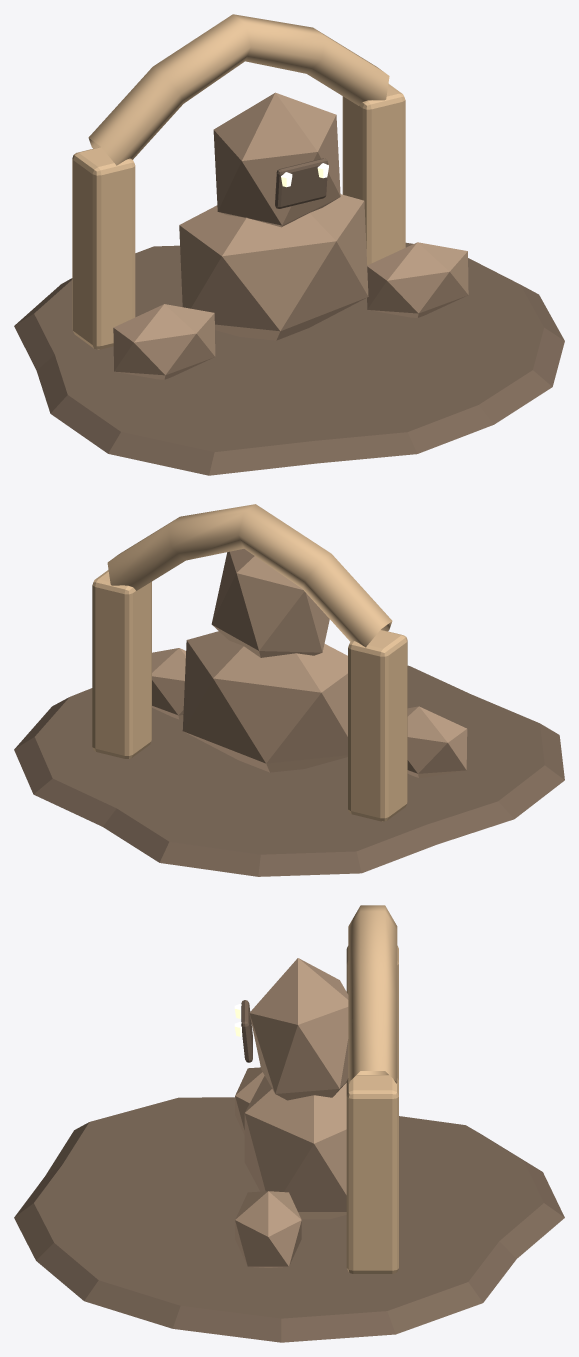
Rendered from whispering-desert-lod2.glb.
3 views of the same model, one above another, from view 1: azimuth 30°, elevation 25°; view 2: azimuth 150°, elevation 25°; view 3: azimuth 270°, elevation 25° (orthographic). The views are drawn at different scales.
Parts seen in each view (by area): view 1: STONE_TERRAIN_SOCKET, STONE_TITAN_TORSO, STONE_TITAN_GATE_ARCH, STONE_GATE_PILLAR_-1, STONE_TITAN_HEAD, STONE_GATE_PILLAR_1, STONE_BURIED_HAND_-1, STONE_BURIED_HAND_1, DARK_TITAN_FACE; view 2: STONE_TERRAIN_SOCKET, STONE_TITAN_TORSO, STONE_TITAN_GATE_ARCH, STONE_GATE_PILLAR_-1, STONE_GATE_PILLAR_1, STONE_TITAN_HEAD, STONE_BURIED_HAND_-1, STONE_BURIED_HAND_1; view 3: STONE_TERRAIN_SOCKET, STONE_TITAN_TORSO, STONE_TITAN_HEAD, STONE_GATE_PILLAR_1, STONE_TITAN_GATE_ARCH, STONE_BURIED_HAND_1, STONE_BURIED_HAND_-1, DARK_TITAN_FACE.
Part boxes in pixels (bbox=[...]): STONE_TERRAIN_SOCKET: bbox=[14, 242, 564, 475]; STONE_TITAN_TORSO: bbox=[179, 194, 368, 340]; STONE_TITAN_GATE_ARCH: bbox=[88, 14, 389, 165]; STONE_GATE_PILLAR_-1: bbox=[72, 147, 135, 349]; STONE_TITAN_HEAD: bbox=[213, 92, 340, 227]; STONE_GATE_PILLAR_1: bbox=[342, 83, 405, 265]; STONE_BURIED_HAND_-1: bbox=[113, 304, 215, 379]; STONE_BURIED_HAND_1: bbox=[367, 242, 468, 317]; DARK_TITAN_FACE: bbox=[275, 158, 328, 208]; STONE_TERRAIN_SOCKET: bbox=[14, 665, 564, 876]; STONE_TITAN_TORSO: bbox=[182, 631, 347, 772]; STONE_TITAN_GATE_ARCH: bbox=[107, 504, 392, 647]; STONE_GATE_PILLAR_-1: bbox=[348, 630, 407, 821]; STONE_GATE_PILLAR_1: bbox=[92, 570, 151, 758]; STONE_TITAN_HEAD: bbox=[211, 549, 329, 657]; STONE_BURIED_HAND_-1: bbox=[407, 706, 467, 777]; STONE_BURIED_HAND_1: bbox=[152, 648, 185, 719]; STONE_TERRAIN_SOCKET: bbox=[14, 1097, 564, 1342]; STONE_TITAN_TORSO: bbox=[244, 1076, 346, 1219]; STONE_TITAN_HEAD: bbox=[249, 958, 348, 1100]; STONE_GATE_PILLAR_1: bbox=[346, 1075, 398, 1273]; STONE_TITAN_GATE_ARCH: bbox=[348, 905, 397, 1083]; STONE_BURIED_HAND_1: bbox=[235, 1191, 301, 1267]; STONE_BURIED_HAND_-1: bbox=[235, 1067, 264, 1134]; DARK_TITAN_FACE: bbox=[241, 1000, 252, 1062].
Size of the model in its own units: 1.74 by 1.04 by 1.69.
